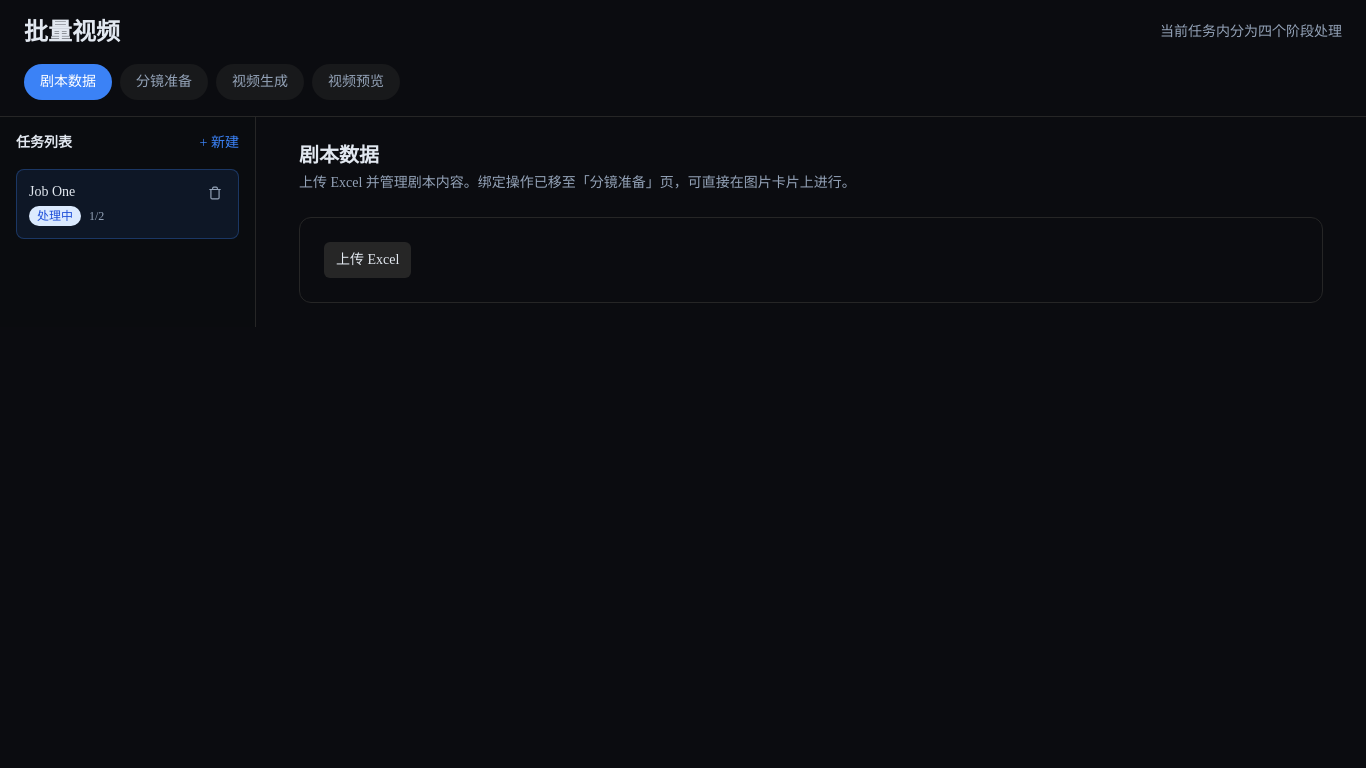
Test: BatchVideoPage video preview cards › shows submitting status with appropriate messaging
Click the button "视频预览".
click(356, 82)  # box [312,64,400,100]
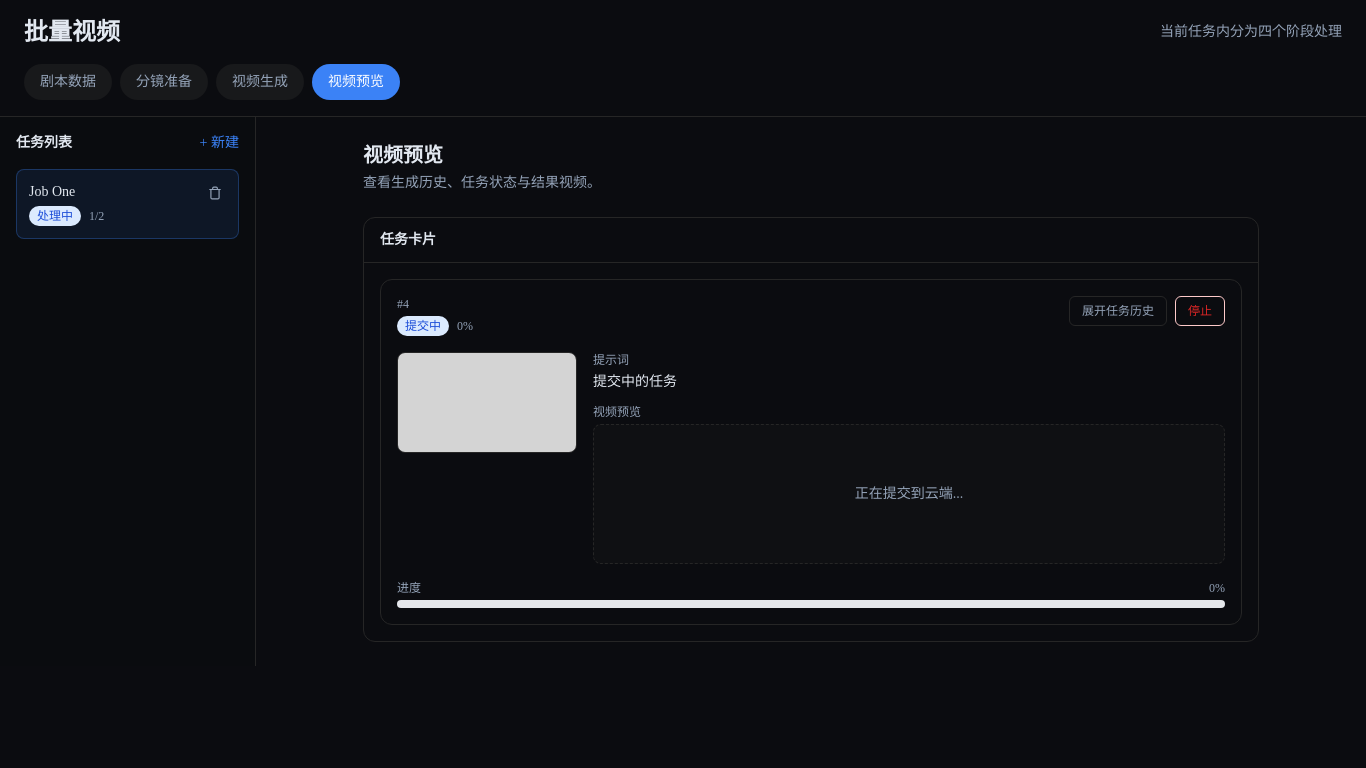
Now the text "提交中" is shown, box [397,316,449,336]
